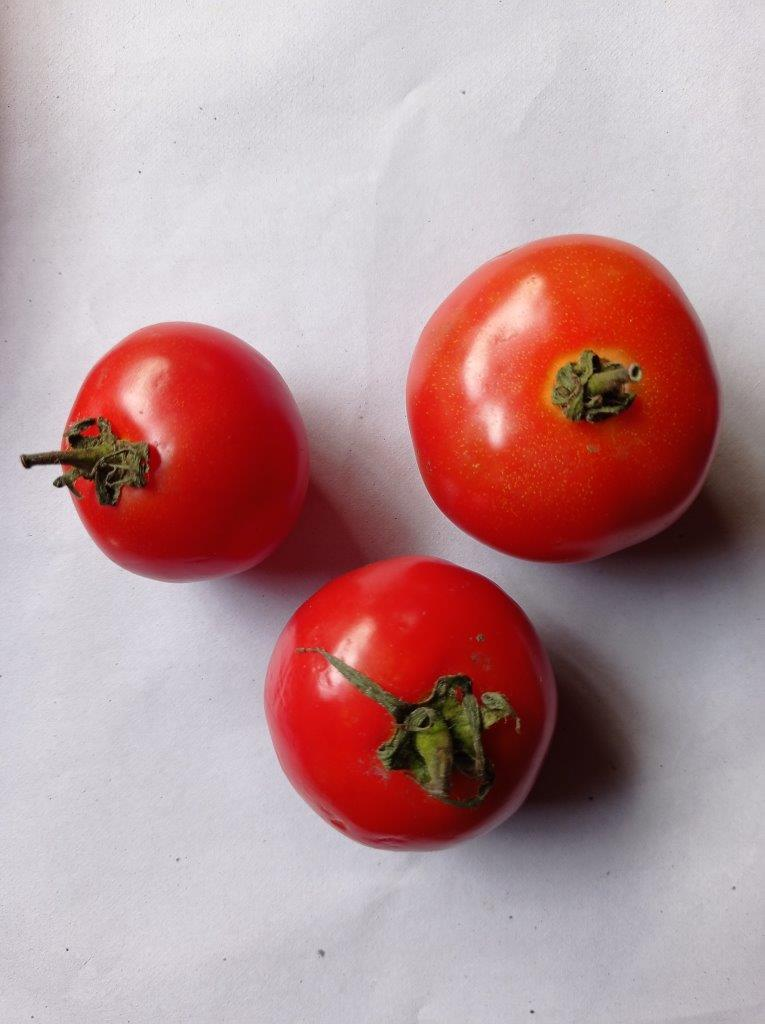tomato: (407, 235, 719, 562), (266, 557, 556, 848), (23, 323, 308, 580)
